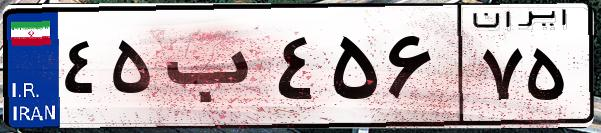4: (270, 28, 330, 110), (57, 26, 110, 100)
5: (330, 28, 385, 110), (525, 38, 570, 115), (110, 28, 158, 98)
6: (385, 28, 445, 110)
7: (475, 38, 525, 113)
ب: (158, 20, 270, 120)
